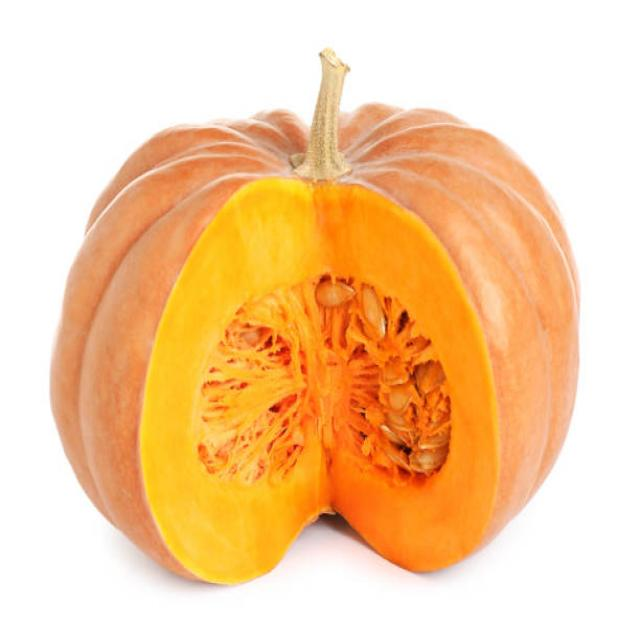pumpkin: (45, 61, 588, 591)
